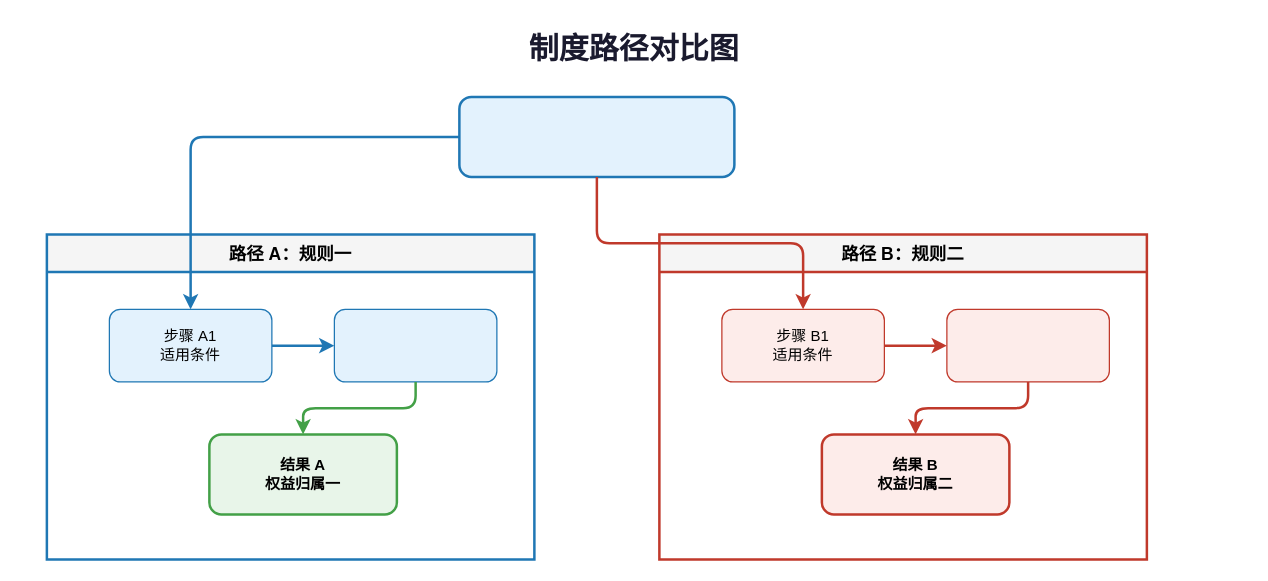
The diagram is 1268 pixels wide and 581 high, and some of its shapes have lost their labels. The centre of each missing label's shape, as x and y in pixels:
"同一事实起点 （待补充：财产/合同/程序）" goes at (596,136).
"步骤 A2 处置/分配" goes at (415,345).
"步骤 B2 收缴/转付" goes at (1027,345).
